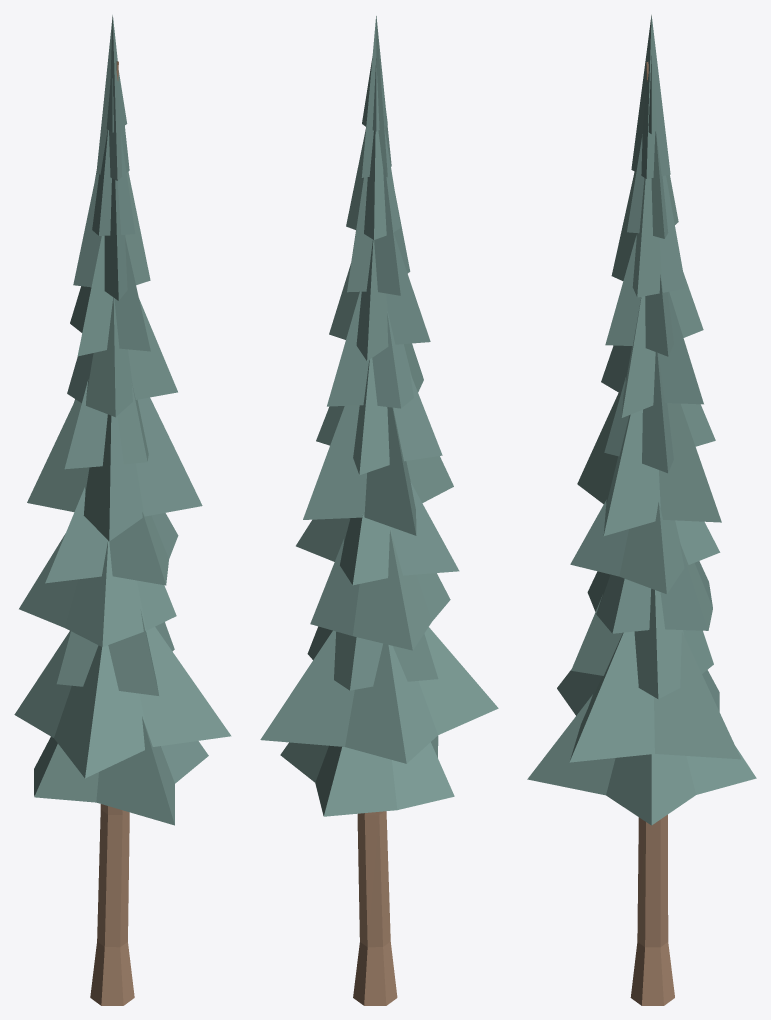
Rendered from temperate-forest-ecology-douglas-fir-mature-0213c3b2__3804.glb.
3 views of the same model, side by side, from view 1: azimuth 30°, elevation 25°; view 2: azimuth 150°, elevation 25°; view 3: azimuth 270°, elevation 25° (orthographic).
Visible parts, largest first — view 1: douglas-fir-mature; view 2: douglas-fir-mature; view 3: douglas-fir-mature.
Part boxes in pixels (x1,y1,x2,y2): douglas-fir-mature: (14, 15, 231, 1005); douglas-fir-mature: (260, 16, 498, 1005); douglas-fir-mature: (527, 15, 756, 1005).
Size of the model in its own units: 5.85 by 31.48 by 6.66.
